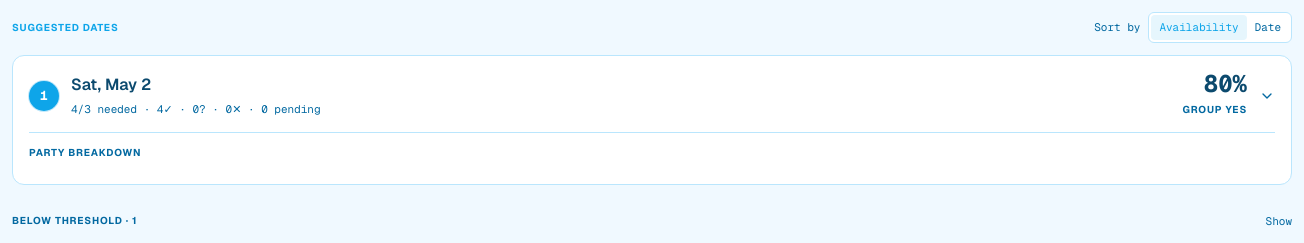
Test: RankedList › chronological mode preserves the below-threshold visual marker in-place
This screenshot has width=1304, height=243.
Click the radio button with test id "sort-by-date" at (1268, 27), box [1247,15,1289,40]
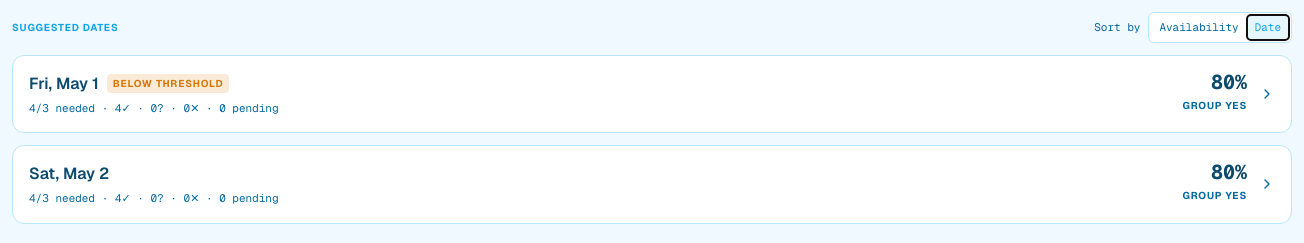
Expected: the text "Below threshold" is shown, [107,74,229,93]
